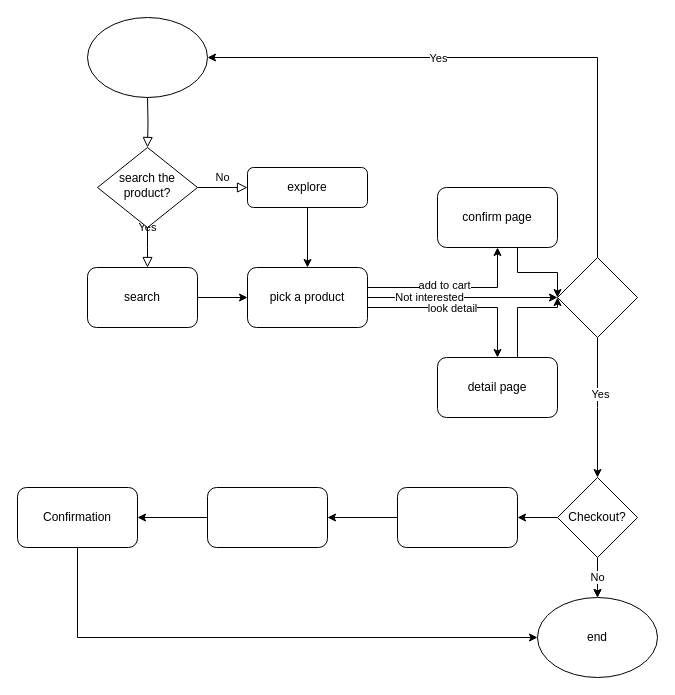
Image size: 675x695. Some labels were removed from this diagram. The box of each missing label's shape, as (x1, y1, x2, y2) in pixels:
keep shopping?: (556, 256, 638, 338)
start: (86, 16, 208, 98)
View Cart: (396, 486, 518, 548)
View payment: (206, 486, 328, 548)
